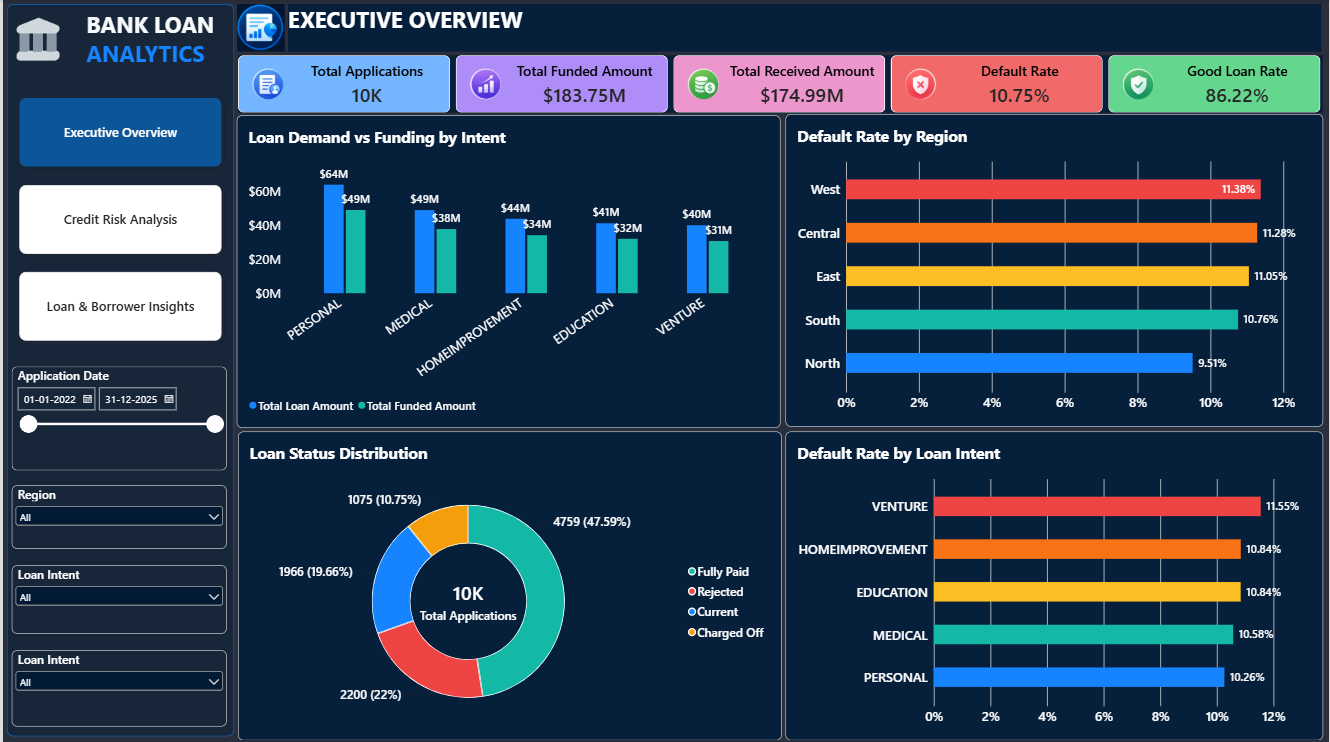

The dashboard page shown, as its layout file describes it:
{"tool":"powerbi","page":{"name":" Executive Overview","canvas":[1920,1080],"ordinal":0},"visuals":[{"type":"cardVisual","fields":{"Data":["Bank_Loan_Data.Total Applications","Bank_Loan_Data.Total Funded Amount","Bank_Loan_Data.Total Received Amount","Bank_Loan_Data.Default Rate","Bank_Loan_Data.Good Loan Rate"]},"box":[340.2,81,1570.8,83.2],"z":0},{"type":"clusteredColumnChart","title":"Loan Demand vs Funding by Intent","fields":{"Category":["Bank_Loan_Data.Loan_Intent"],"Y":["Bank_Loan_Data.Total Loan Amount","Bank_Loan_Data.Total Funded Amount"]},"box":[338.4,168.3,787.2,452.4],"z":1000},{"type":"donutChart","title":"Loan Status Distribution","fields":{"Category":["Bank_Loan_Data.Loan_Status"],"Y":["Bank_Loan_Data.Total Applications"]},"box":[340.2,626.1,787.2,447],"z":2000},{"type":"clusteredBarChart","title":"Default Rate by Loan Intent","fields":{"Category":["Bank_Loan_Data.Loan_Intent"],"Y":["Bank_Loan_Data.Default Rate"]},"box":[1132.8,626.1,778.2,447],"z":3000},{"type":"clusteredBarChart","title":"Default Rate by Region","fields":{"Category":["Bank_Loan_Data.Region"],"Y":["Bank_Loan_Data.Default Rate"]},"box":[1132.8,166.5,778.2,452.4],"z":4000},{"type":"shape","box":[5.4,7.2,329.4,1060.5],"z":5000},{"type":"pageNavigator","box":[14.5,133.9,311.3,372.8],"z":6000},{"type":"slicer","fields":{"Values":["Bank_Loan_Data.Application_Date"]},"box":[12.7,532,311.3,150.2],"z":7000},{"type":"slicer","fields":{"Values":["Bank_Loan_Data.Region"]},"box":[12.7,704,311.3,92.3],"z":8000},{"type":"slicer","fields":{"Values":["Bank_Loan_Data.Loan_Intent"]},"box":[12.7,819.8,311.3,99.5],"z":9000},{"type":"textbox","box":[103.2,14.5,219,119.4],"z":10000},{"type":"image","box":[18.1,10.9,67,92.3],"z":11000},{"type":"image","box":[16.3,12.7,67,92.3],"z":12000},{"type":"slicer","fields":{"Values":["Bank_Loan_Data.Loan_Intent"]},"box":[12.7,942.8,311.3,110.4],"z":13000},{"type":"textbox","title":"EXECUTIVE OVERVIEW ","box":[412.6,7.2,1496,68.8],"z":14000},{"type":"image","box":[323.9,7.2,99.5,68.8],"z":15000}]}

Visuals, with their boxes in screenshot pixels (x1, y1, x2, y2), scaled from the page's 1920x1080 canvas onto the 1330x742 screenshot:
cardVisual - Bank_Loan_Data.Total Applications x Bank_Loan_Data.Total Funded Amount: detection(236, 56, 1324, 113)
"Loan Demand vs Funding by Intent" clusteredColumnChart: detection(234, 116, 780, 426)
"Loan Status Distribution" donutChart: detection(236, 430, 781, 737)
"Default Rate by Loan Intent" clusteredBarChart: detection(785, 430, 1324, 737)
"Default Rate by Region" clusteredBarChart: detection(785, 114, 1324, 425)
shape: detection(4, 5, 232, 734)
pageNavigator: detection(10, 92, 226, 348)
slicer - Bank_Loan_Data.Application_Date: detection(9, 366, 224, 469)
slicer - Bank_Loan_Data.Region: detection(9, 484, 224, 547)
slicer - Bank_Loan_Data.Loan_Intent: detection(9, 563, 224, 632)
textbox: detection(71, 10, 223, 92)
image: detection(13, 7, 59, 71)
image: detection(11, 9, 58, 72)
slicer - Bank_Loan_Data.Loan_Intent: detection(9, 648, 224, 724)
"EXECUTIVE OVERVIEW " textbox: detection(286, 5, 1322, 52)
image: detection(224, 5, 293, 52)
